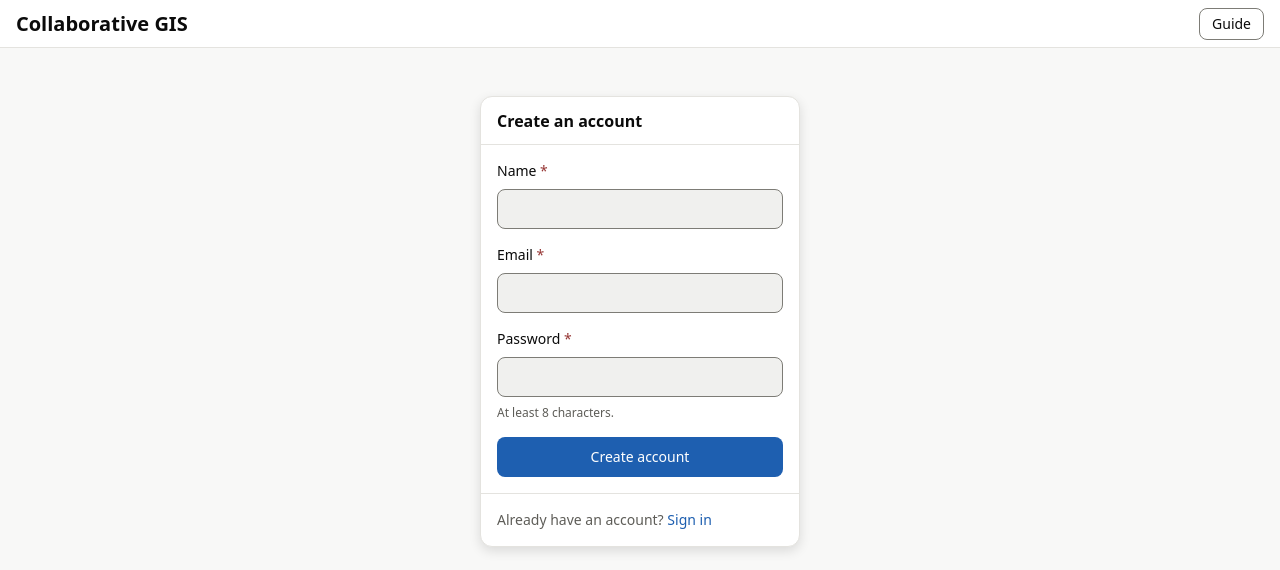
Test: /register › links to /login
Click the link "Sign in". click: (690, 520)
box: left=667, top=510, right=712, bottom=529
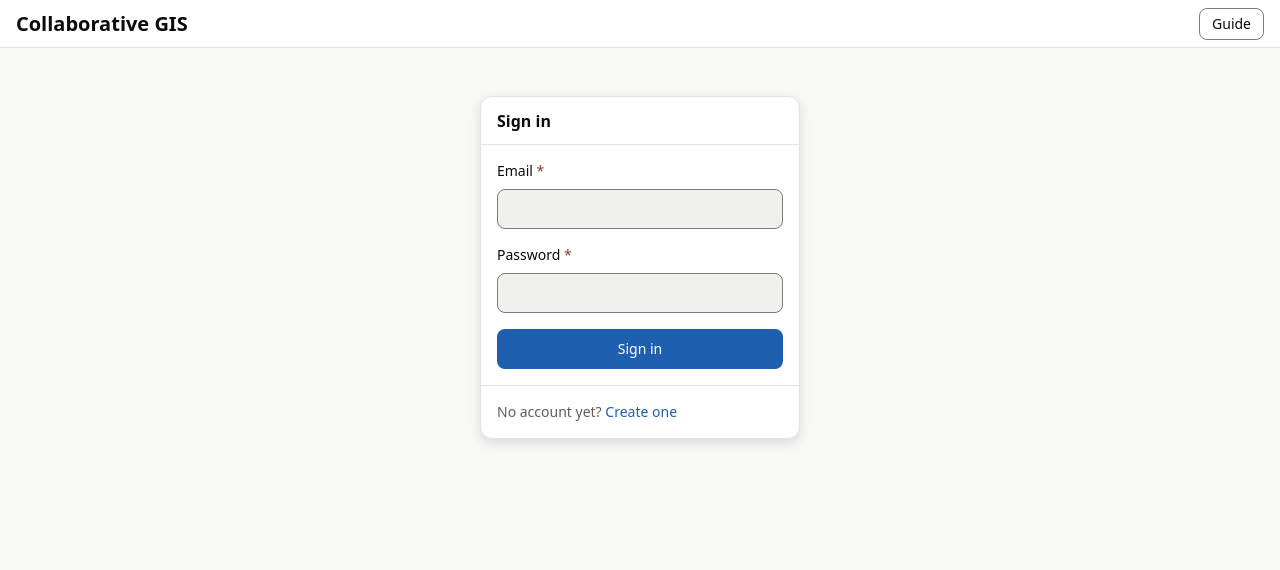
Now the heading "Sign in" is shown, box left=497, top=108, right=551, bottom=132
